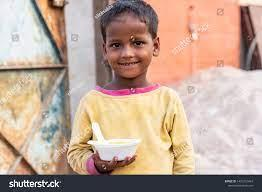Human: (72, 1, 190, 173)
